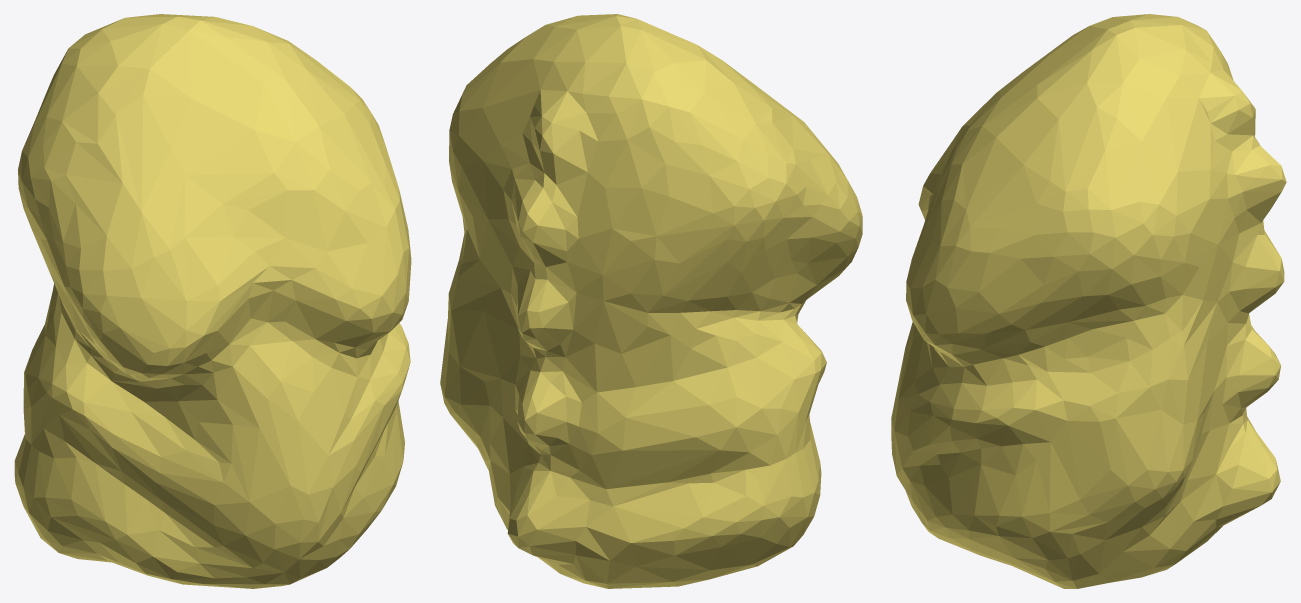
Rendered from BodySlug.fbx.
3 renders of one model, left to right at view 1: azimuth 30°, elevation 25°; view 2: azimuth 150°, elevation 25°; view 3: azimuth 270°, elevation 25°, orthographic. The views are drawn at different scales.
Visible parts, largest first — view 1: Icosphere; view 2: Icosphere; view 3: Icosphere.
Boxes of the visible parts, bbox=[...] form: Icosphere: bbox=[14, 14, 411, 588]; Icosphere: bbox=[440, 14, 862, 588]; Icosphere: bbox=[891, 14, 1286, 588].
Bounding box in the file's own units: 96.83 × 148 × 98.65.
